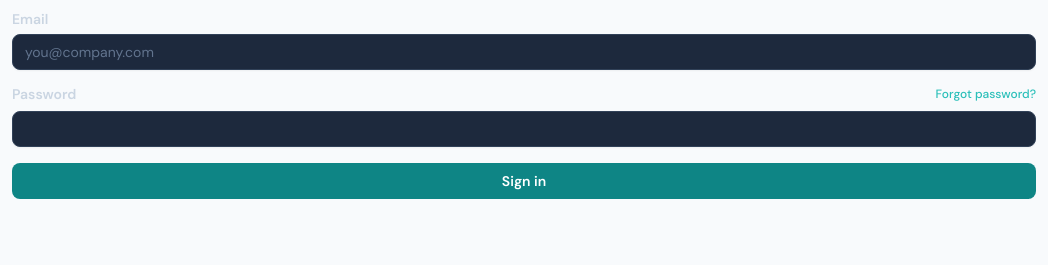
Scenario: LoginForm › shows error on auth failure
Type "wrong@test.com" into the field labelled "Email". click: (524, 52)
box: left=12, top=34, right=1036, bottom=70
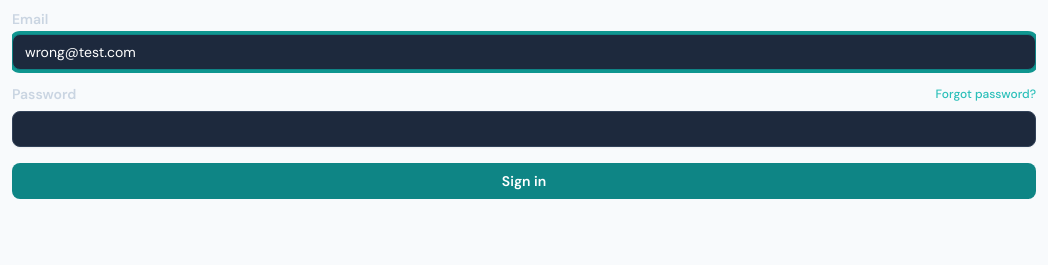
Type "wrongpassword" into the password field labelled "Password". click: (524, 129)
box: left=12, top=111, right=1036, bottom=147
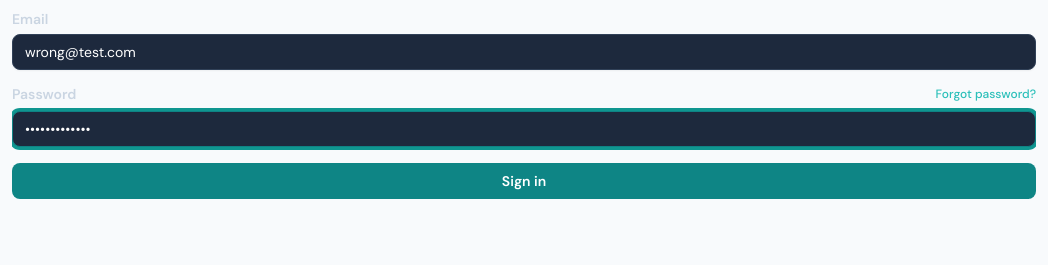
Click the button "Sign in". click: (524, 181)
box: left=12, top=163, right=1036, bottom=199
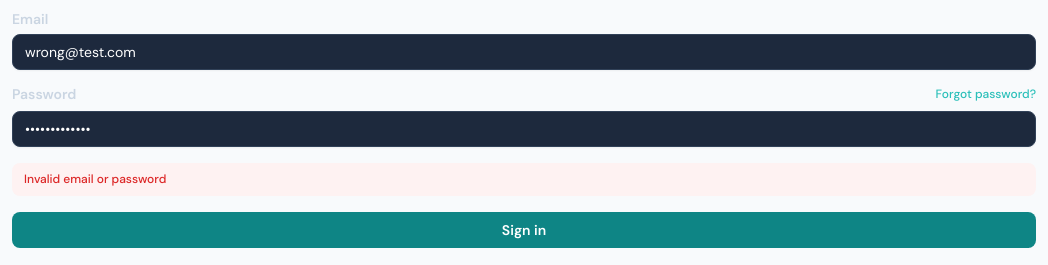
expect the text "Invalid email or password" is shown: met, box left=12, top=163, right=1036, bottom=196
